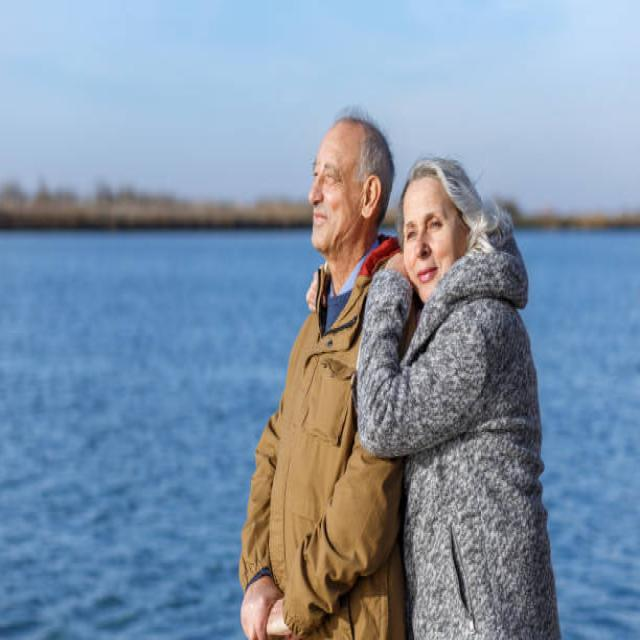Real human 2: (230, 94, 579, 640)
